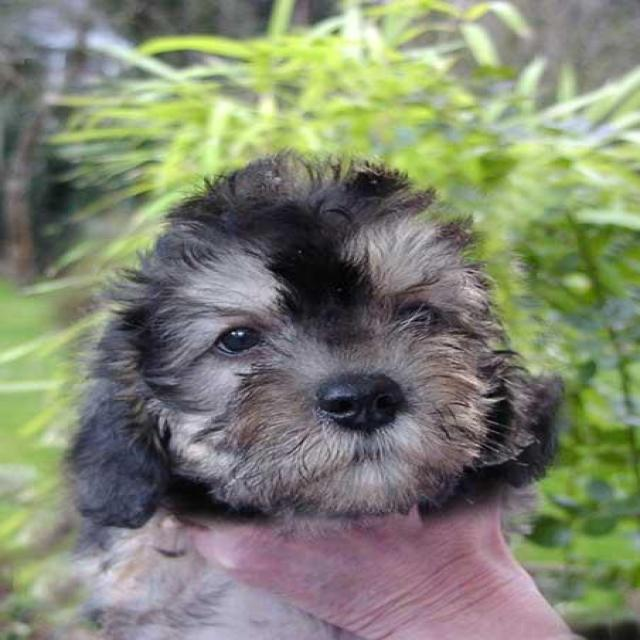dandie_dinmont: (59, 150, 565, 638)
